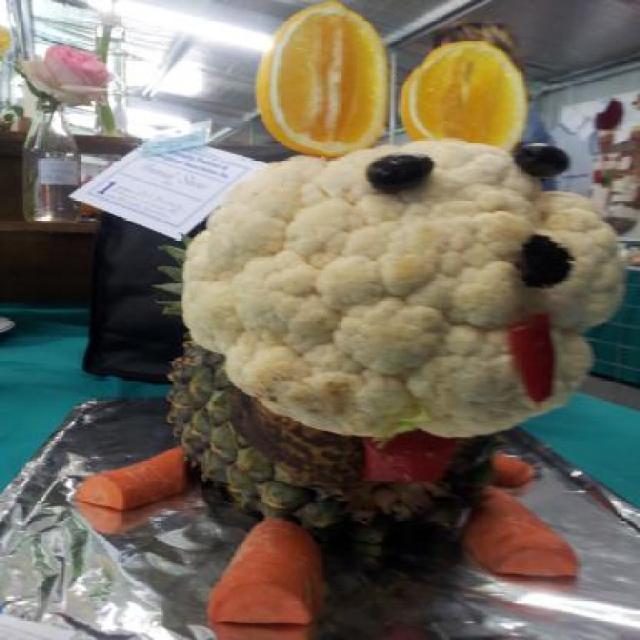Lemon: (254, 4, 384, 162)
